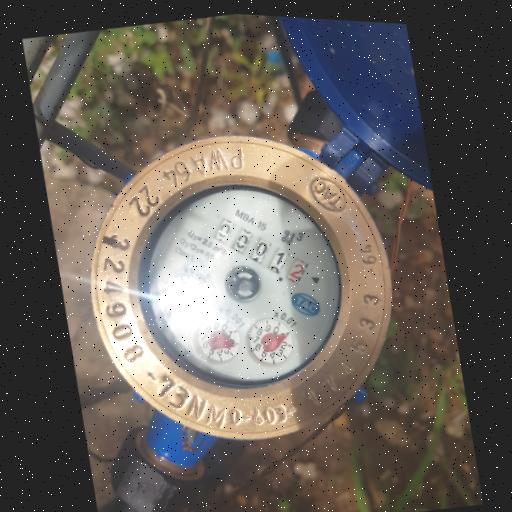0: (226, 224, 256, 256), (209, 214, 238, 246), (246, 234, 274, 266)
1: (263, 244, 292, 277)
2: (282, 255, 311, 288)
border_water_meter_number: (204, 197, 318, 305)
